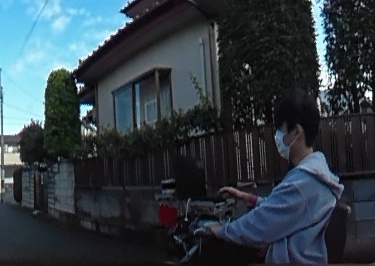person: (210, 86, 341, 266)
